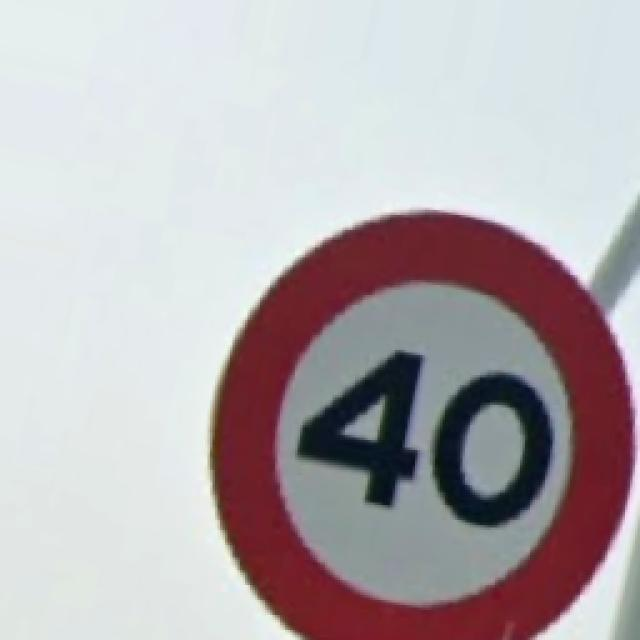Speed Limit -40-: (212, 212, 630, 638)
